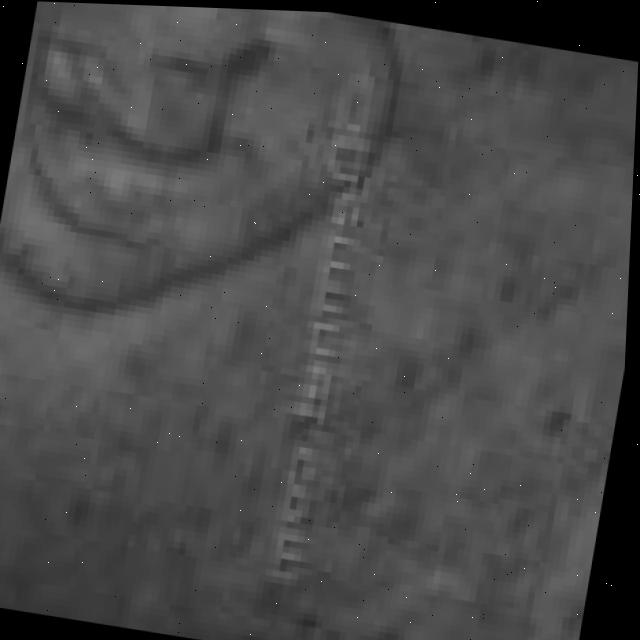Melasma: (203, 241, 630, 640)
